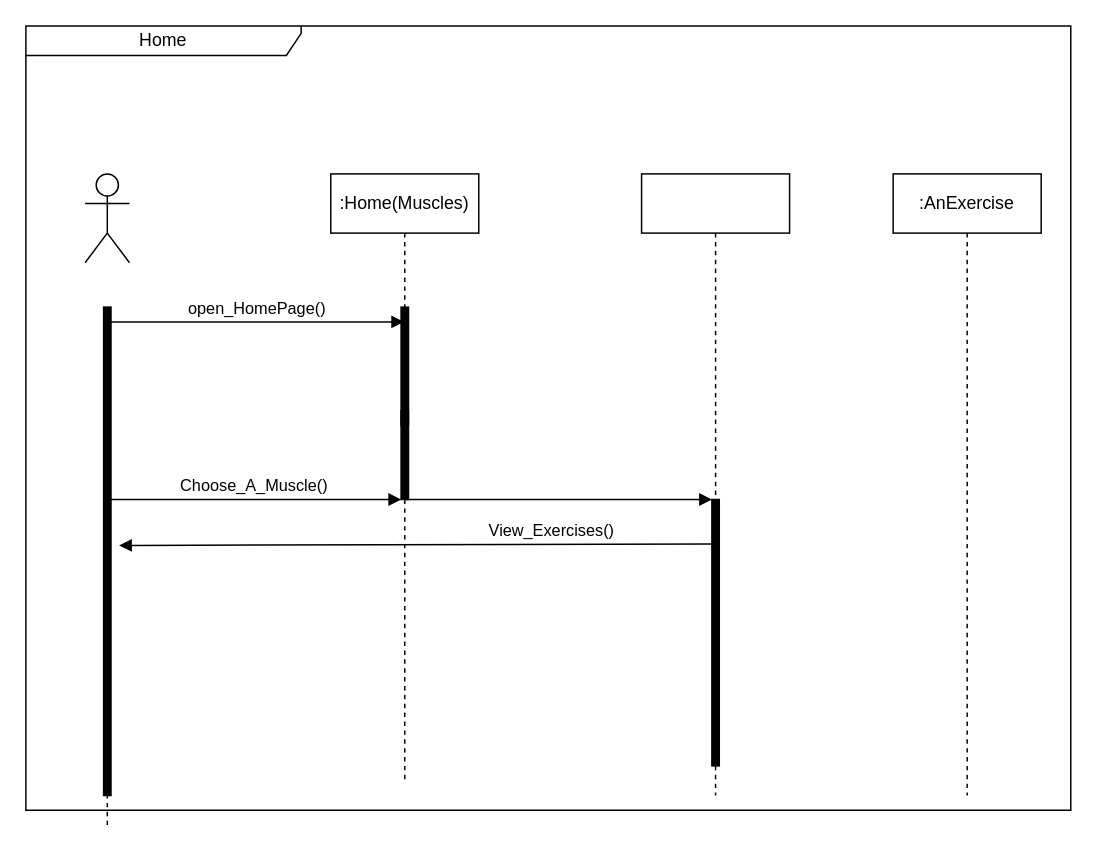
The diagram is 1097 pixels wide and 852 high, and some of its shapes have lost their labels. The centre of each missing label's shape, as x and y in pixels:
:ABS (Exercise List): the point at 715,484
User: the point at 107,217
